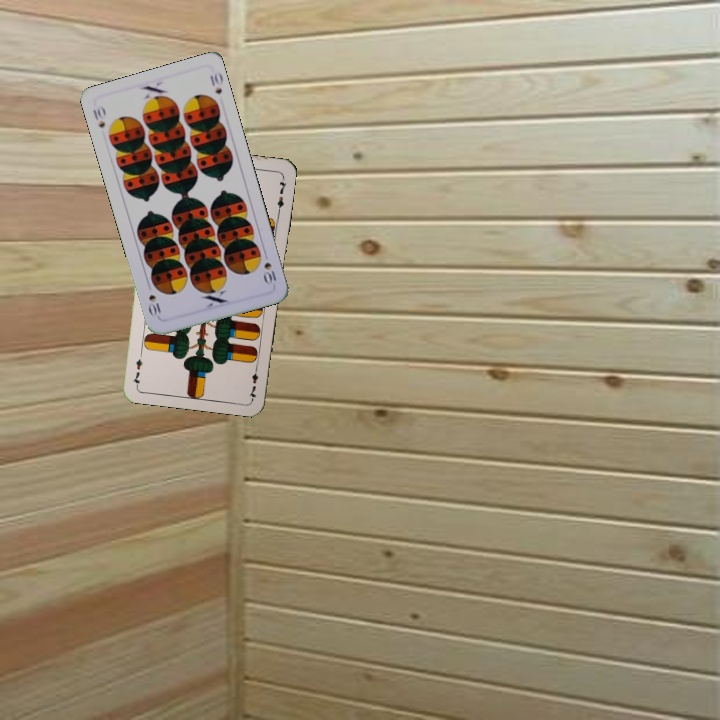E7: (245, 360, 261, 401)
S10: (259, 248, 280, 287), (89, 102, 108, 130)
